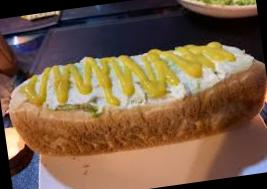Completos: (1, 29, 267, 169)
